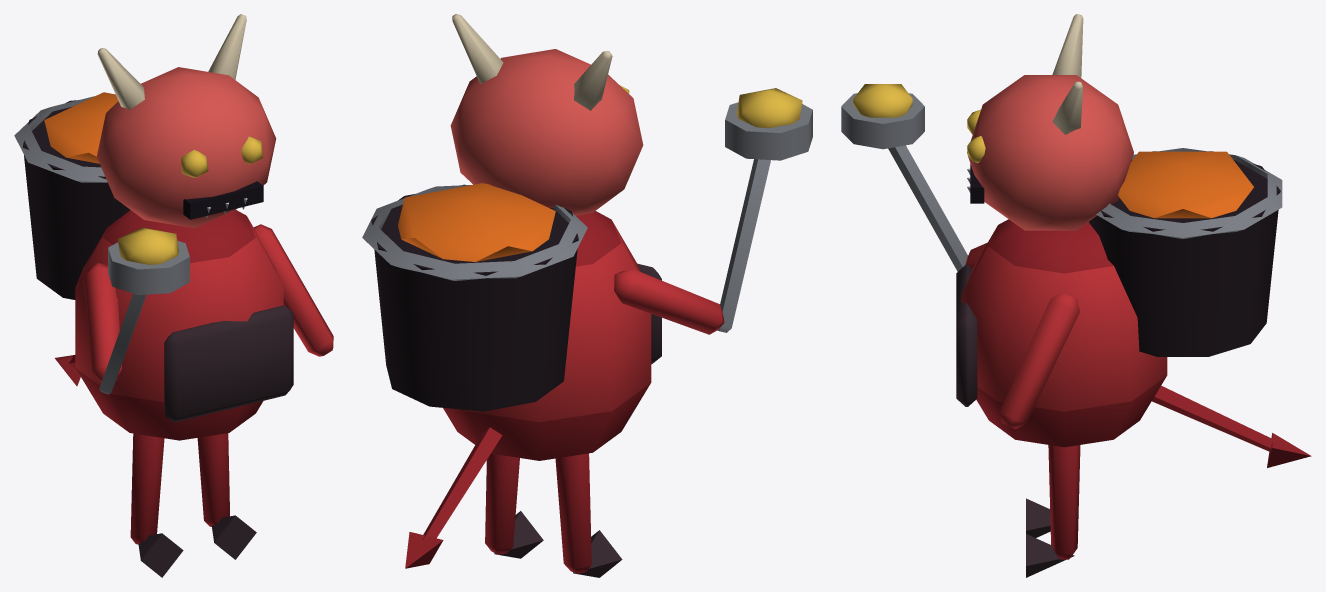
Rendered from e_daemonen_glutkobold.glb.
3 renders of one model, left to right at view 1: azimuth 30°, elevation 25°; view 2: azimuth 150°, elevation 25°; view 3: azimuth 270°, elevation 25°, orthographic. The views are drawn at different scales.
Parts seen in each view (by area): view 1: body; view 2: body; view 3: body.
Boxes of the visible parts, box(x1,y1,x2,y2) form: body: box(14, 14, 333, 577); body: box(362, 14, 812, 577); body: box(841, 14, 1311, 577).
Size of the model in its own units: 0.9424 by 1.62 by 1.35.
